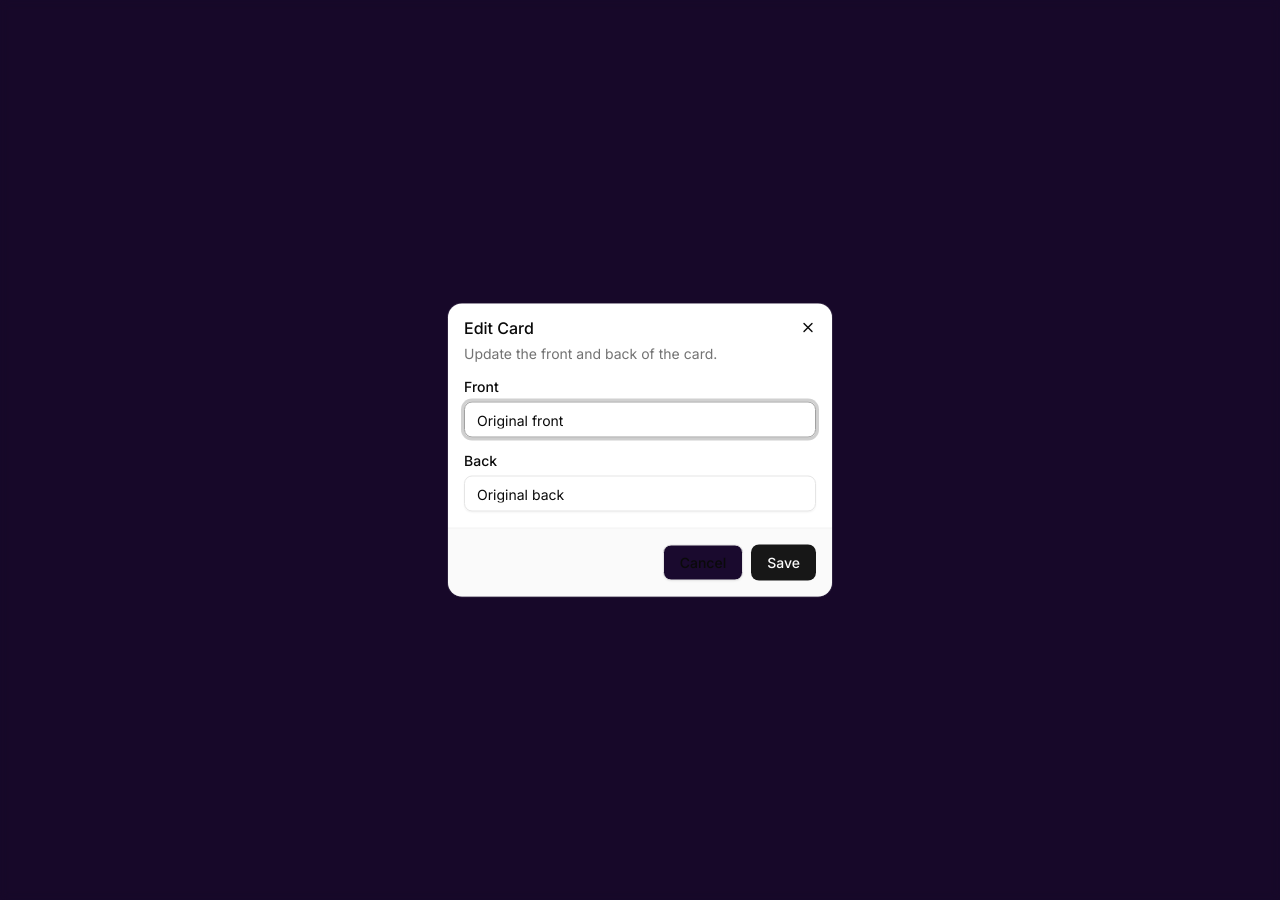
Test: EditCardModal › validates required card fields
Clear the field labelled "Front". click: (640, 420)
box: [464,402,816,438]
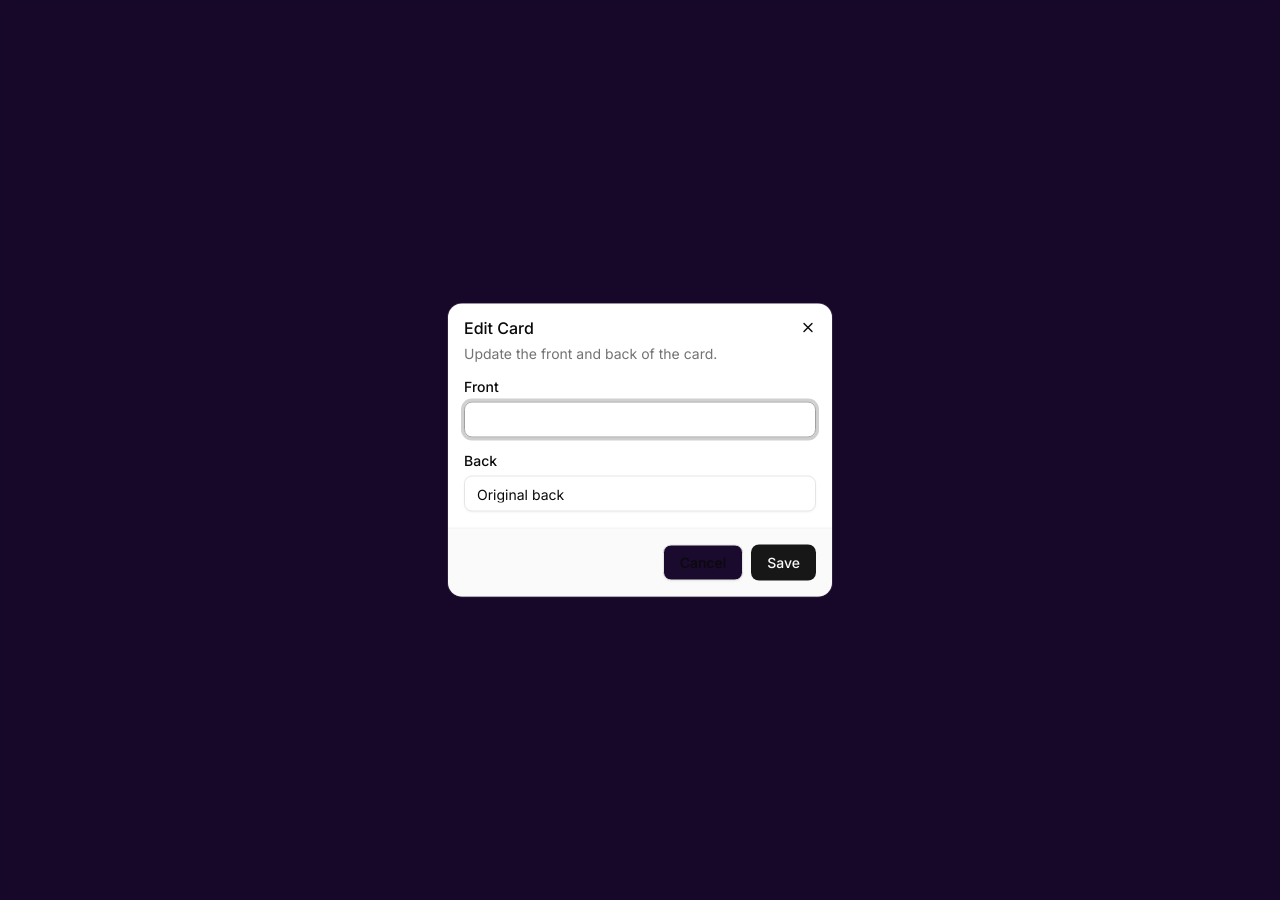
Clear the field labelled "Back". click: (640, 494)
box: [464,476,816,512]
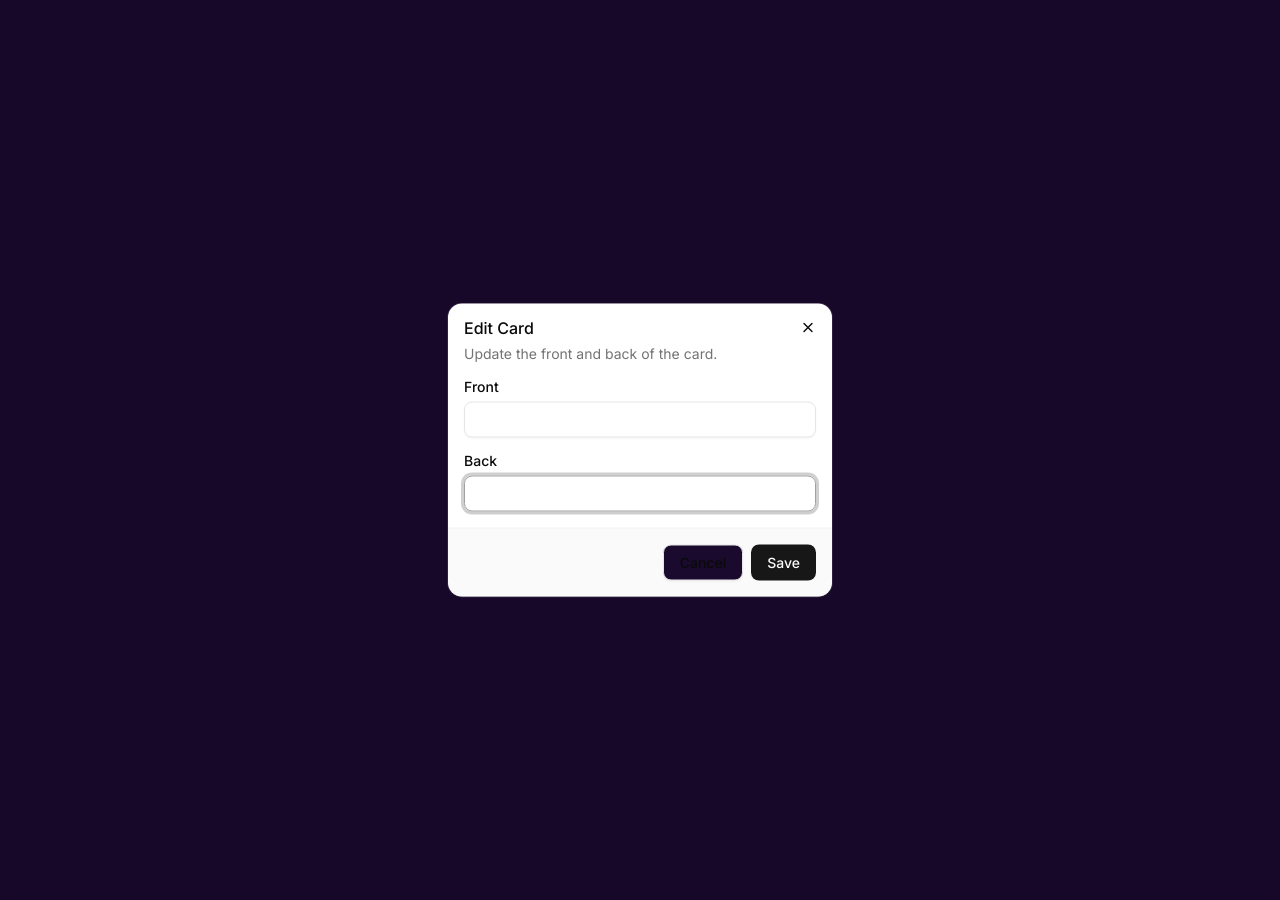
Click the button "Save". click: (784, 562)
box: [751,544,816,580]
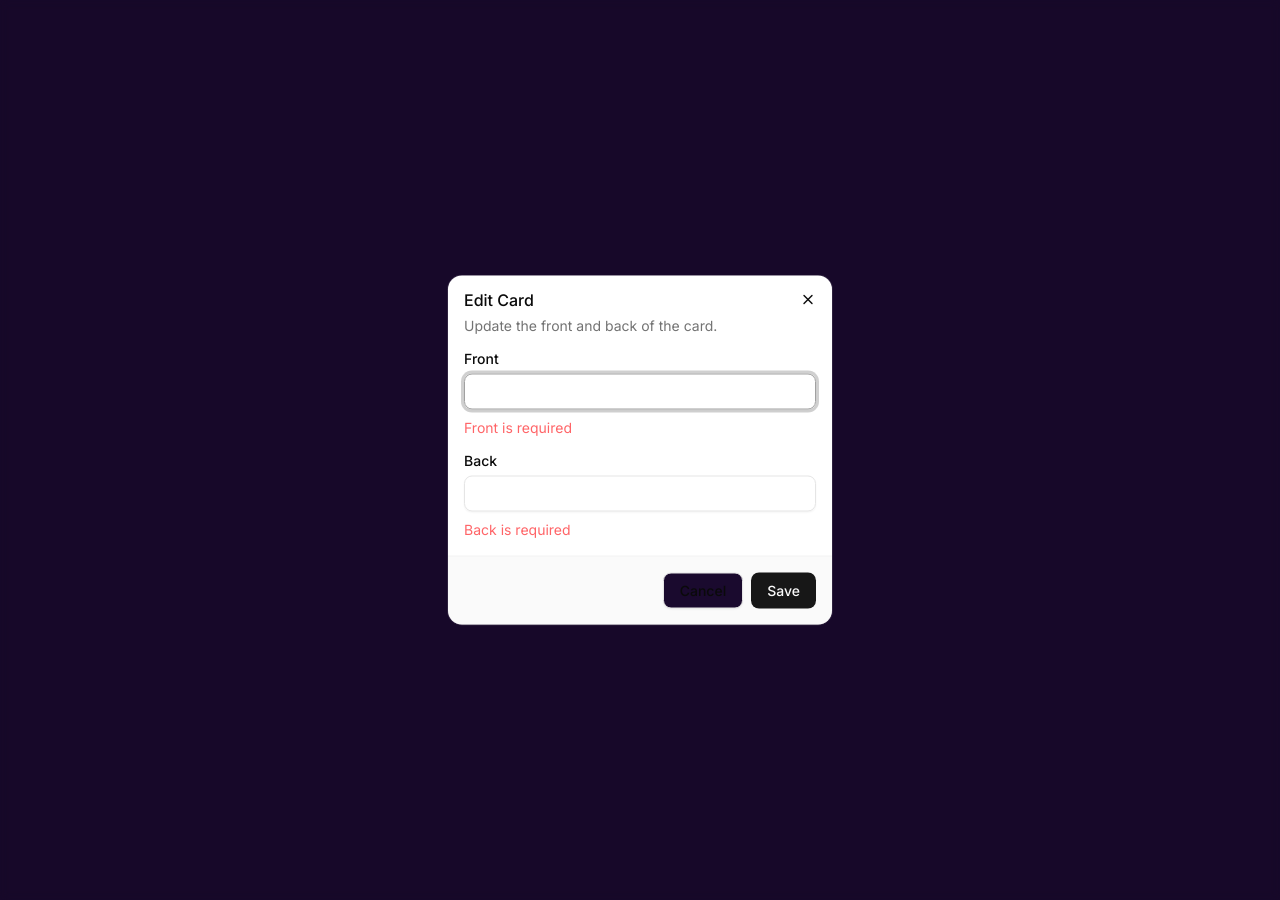
Now the number of messages is 2, box [464,418,572,436]; [464,520,571,538]
